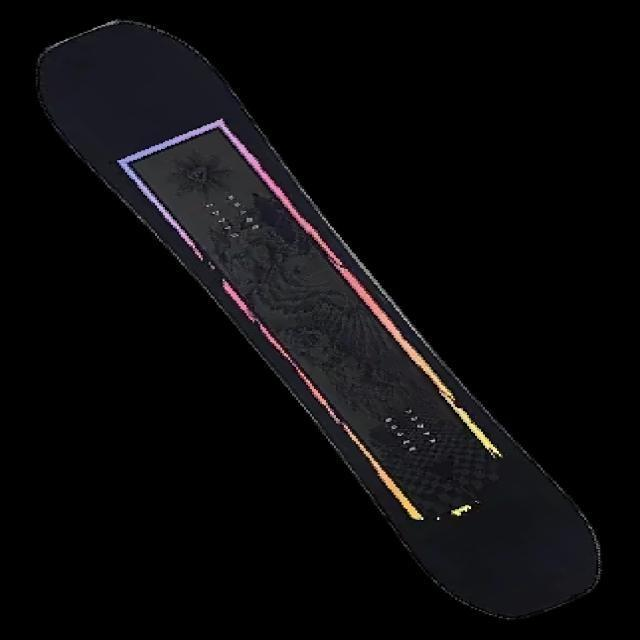Snowboard: (34, 17, 602, 621)
